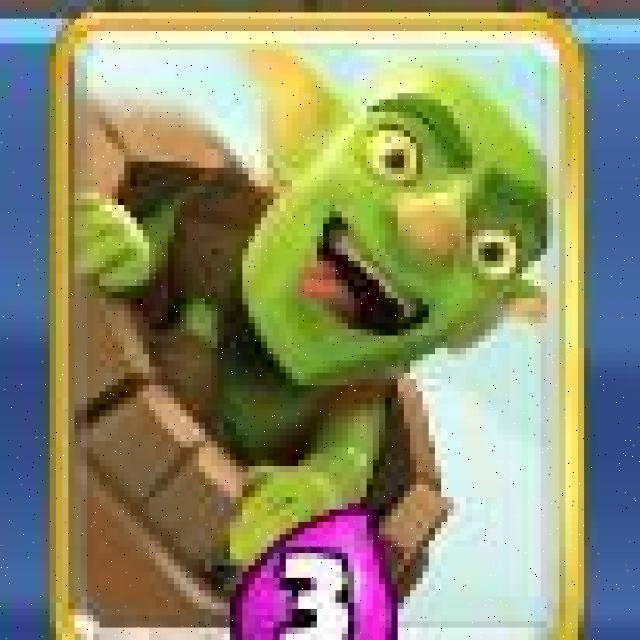Goblin_Barrel: (54, 12, 578, 640)
